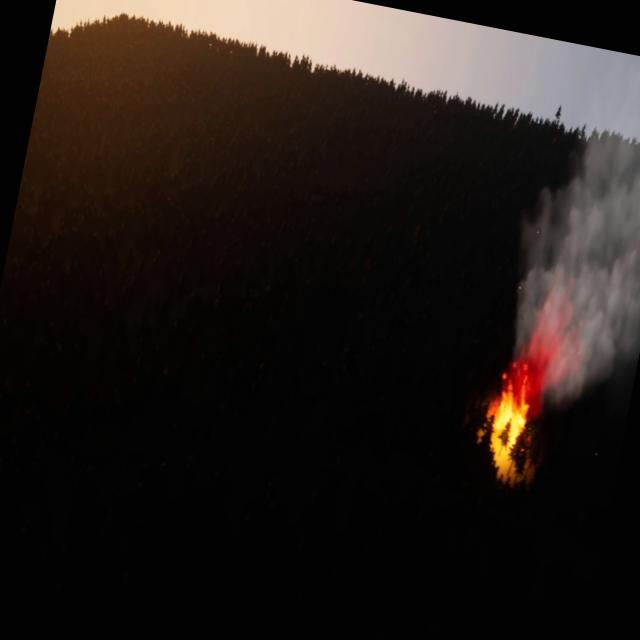fire: (480, 372, 540, 462)
smoke: (501, 47, 640, 404)
